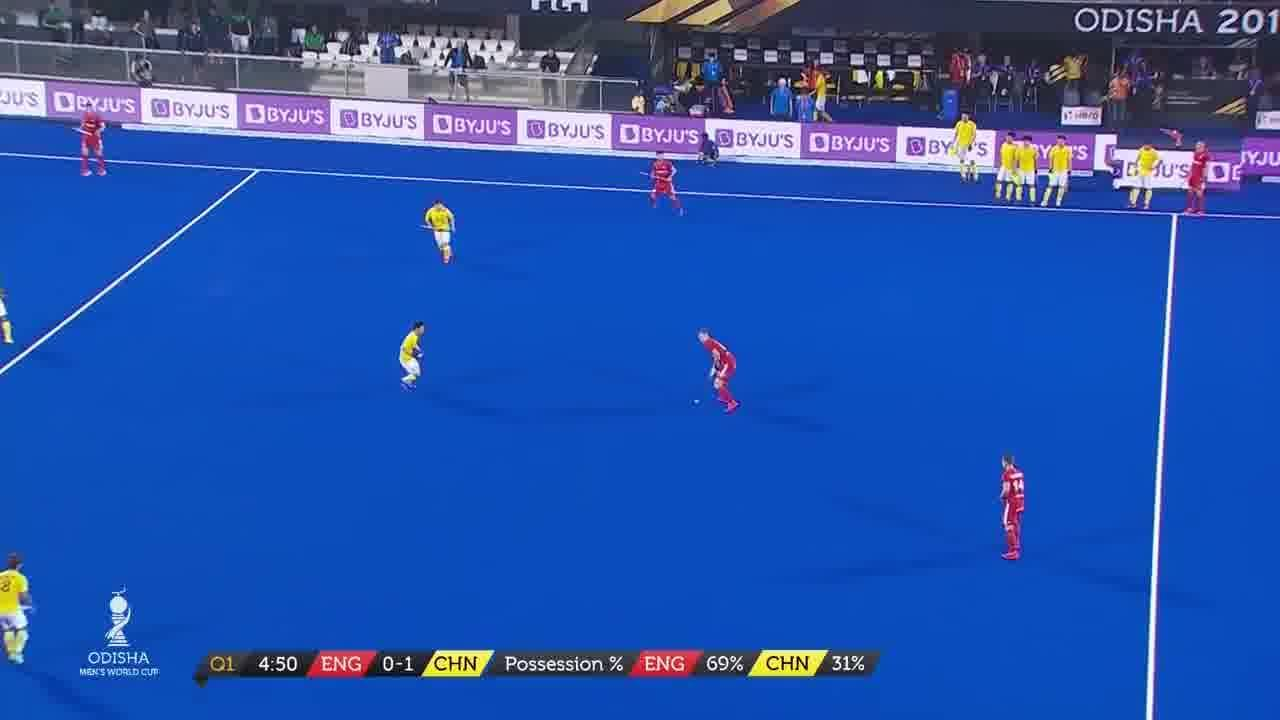ball: (691, 394, 702, 408)
